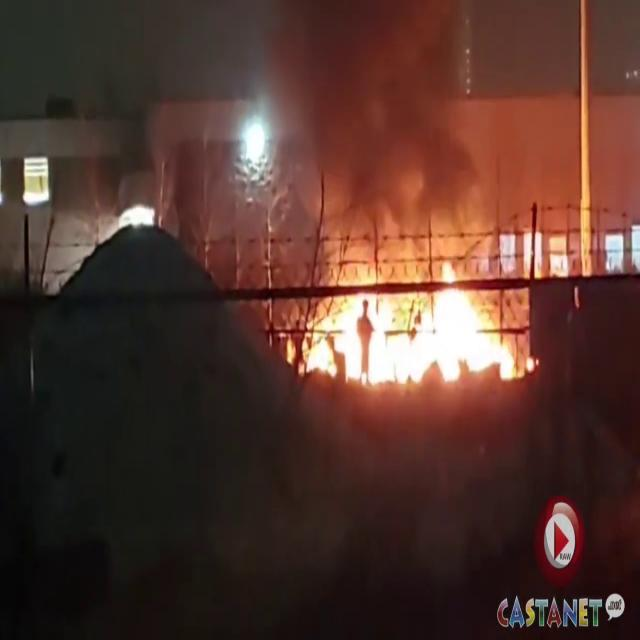Fire: (292, 257, 534, 399)
Smoke: (265, 0, 511, 252)
